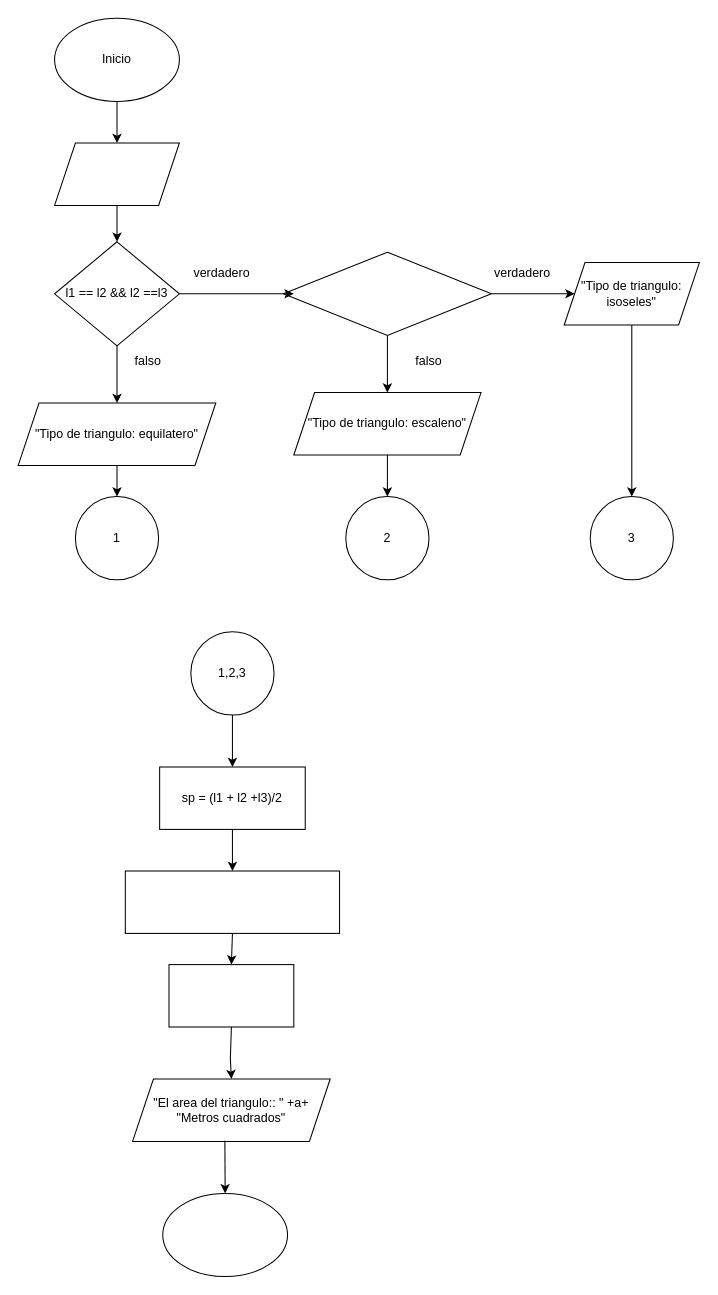
Some shapes in this 718 by 1295 pixel diagram are drawn without their labels. The centre of each missing label's shape, as x and y in pixels:
a = raiz: point (231, 995)
Fin: point (225, 1234)
l1 != l2 && l2 != l3 && l3 != l1: point (386, 293)
l1,l2,l3: point (116, 173)
raiz = sp*(sp - l1)*(sp - l2)*(sp - l3): point (232, 901)
